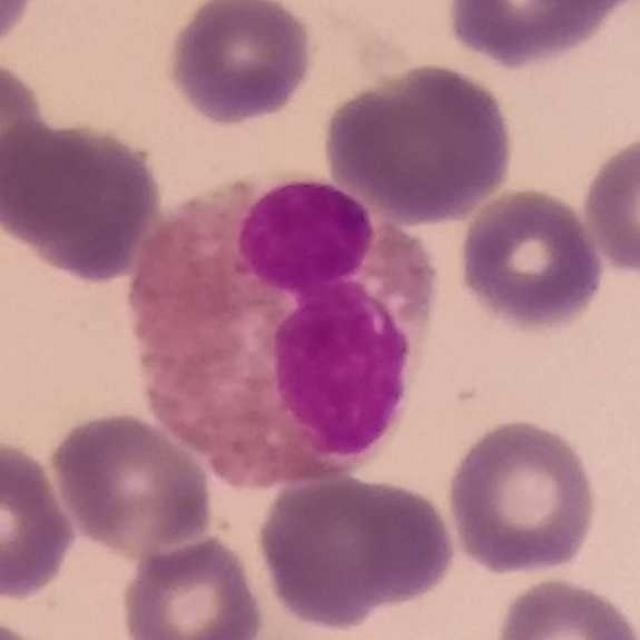Eosinophil: (120, 170, 453, 488)
RBC: (321, 58, 518, 224), (1, 112, 166, 284), (443, 414, 601, 579), (46, 407, 217, 559), (454, 182, 609, 333), (252, 470, 387, 630), (296, 479, 460, 609), (164, 0, 318, 128), (117, 532, 268, 640), (0, 433, 79, 604), (442, 0, 633, 69), (489, 573, 640, 640), (0, 51, 53, 236), (579, 126, 640, 280), (0, 1, 45, 57)
